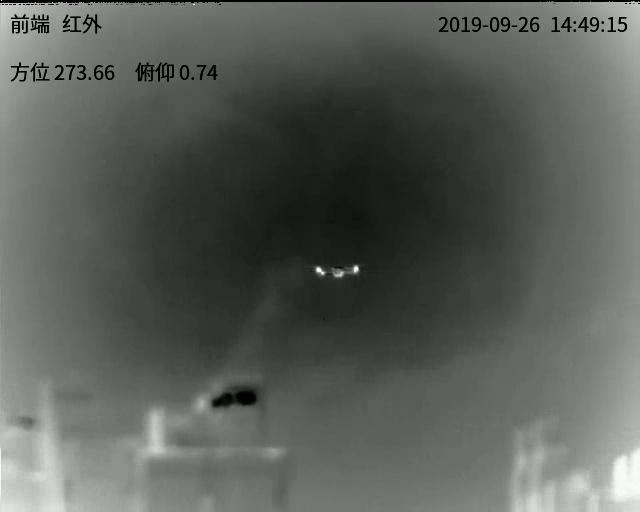DRONE: (314, 264, 360, 279)
